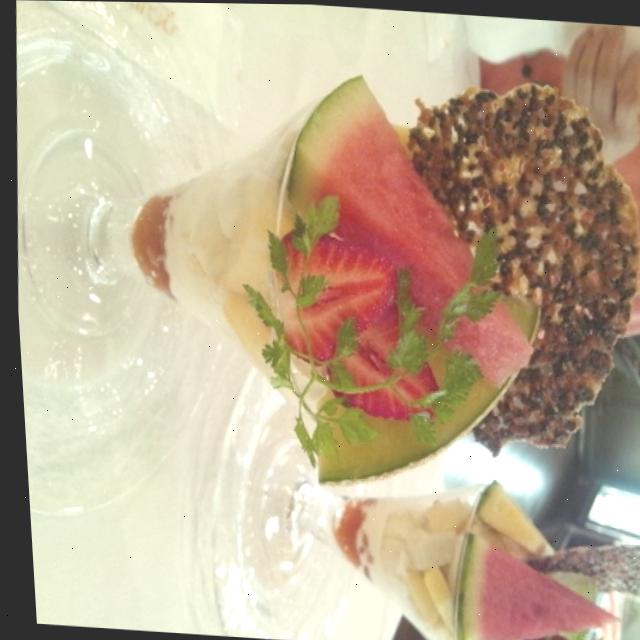蛋糕甜品: (2, 34, 640, 609)
